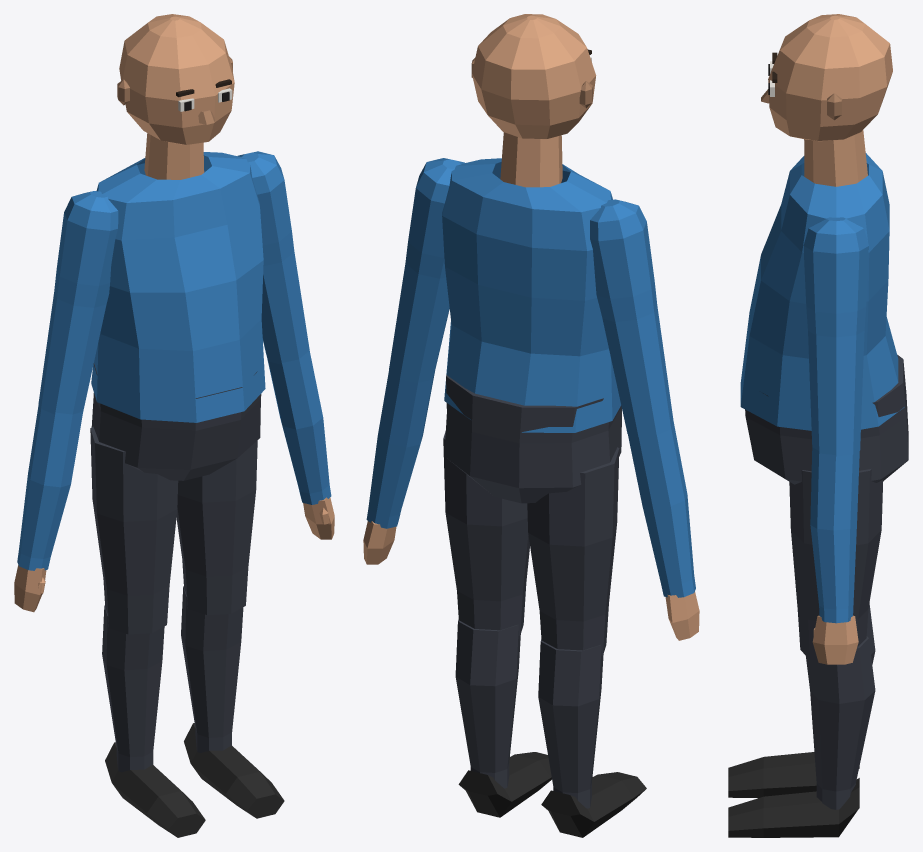
File: enfant_x_rond.glb
The picture shows the model from 3 angles, left to right: view 1: azimuth 30°, elevation 25°; view 2: azimuth 150°, elevation 25°; view 3: azimuth 270°, elevation 25°; orthographic projection. The views are drawn at different scales.
Parts seen in each view (by area): view 1: torse, tete, jambe_d, bras_d, tibia_d, tibia_g, jambe_g, bassin, avant_bras_d, bras_g, avant_bras_g; view 2: torse, tete, bassin, jambe_d, bras_d, tibia_d, tibia_g, jambe_g, bras_g, avant_bras_d, avant_bras_g; view 3: torse, tete, bras_g, tibia_g, avant_bras_g, jambe_g, bassin, tibia_d.
Part boxes in pixels (x1=…): torse: x1=91, y1=152, x2=265, y2=422; tete: x1=117, y1=14, x2=234, y2=179; jambe_d: x1=90, y1=426, x2=178, y2=634; bras_d: x1=38, y1=191, x2=118, y2=414; tibia_d: x1=102, y1=605, x2=205, y2=837; tibia_g: x1=181, y1=586, x2=284, y2=818; jambe_g: x1=176, y1=440, x2=257, y2=615; bassin: x1=91, y1=363, x2=261, y2=480; avant_bras_d: x1=14, y1=405, x2=82, y2=612; bras_g: x1=237, y1=151, x2=309, y2=364; avant_bras_g: x1=267, y1=351, x2=334, y2=539; torse: x1=442, y1=158, x2=620, y2=432; tete: x1=471, y1=14, x2=596, y2=187; bassin: x1=444, y1=375, x2=621, y2=503; jambe_d: x1=527, y1=447, x2=619, y2=655; bras_d: x1=590, y1=199, x2=673, y2=437; tibia_d: x1=538, y1=640, x2=646, y2=837; tibia_g: x1=455, y1=620, x2=551, y2=817; jambe_g: x1=443, y1=431, x2=529, y2=635; bras_g: x1=389, y1=158, x2=464, y2=382; avant_bras_d: x1=628, y1=422, x2=699, y2=640; avant_bras_g: x1=363, y1=370, x2=434, y2=564; torse: x1=740, y1=153, x2=904, y2=430; tete: x1=761, y1=14, x2=892, y2=186; bras_g: x1=803, y1=217, x2=868, y2=456; tibia_g: x1=728, y1=636, x2=875, y2=837; avant_bras_g: x1=810, y1=447, x2=859, y2=664; jambe_g: x1=789, y1=469, x2=883, y2=660; bassin: x1=745, y1=354, x2=908, y2=484; tibia_d: x1=728, y1=603, x2=875, y2=798.
Bounding box in the file's own units: 0.5747 × 1.36 × 0.2795.
1 material, 1 textured.
